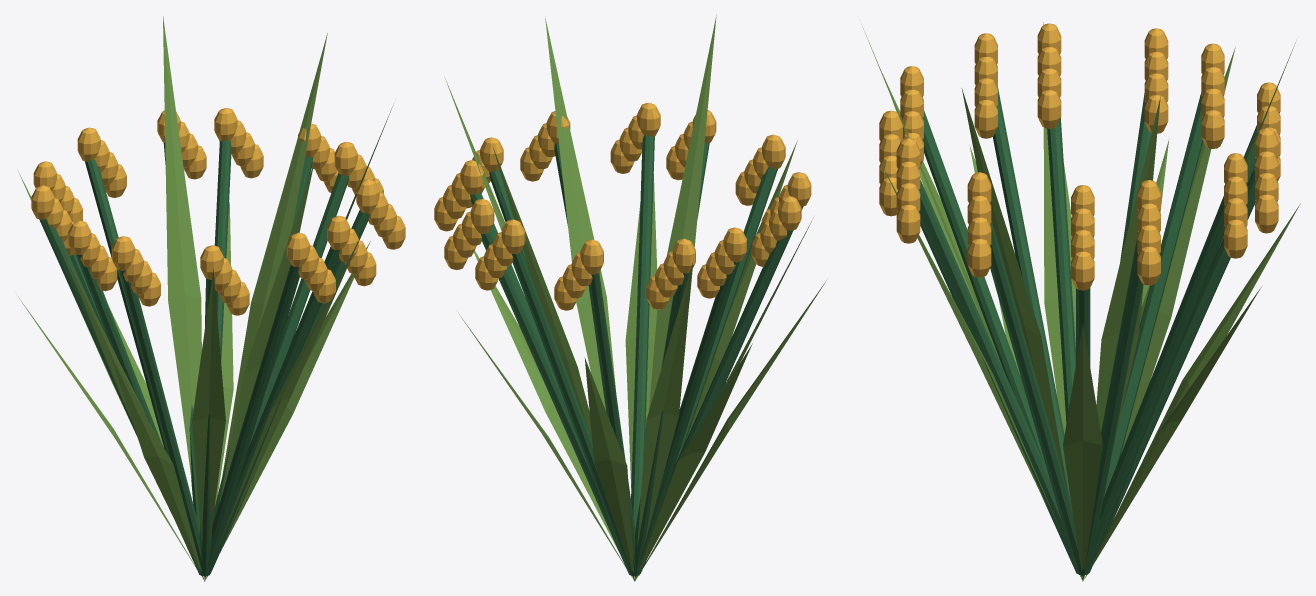
Rendered from 037_ripening_paddy.glb.
3 views of the same model, side by side, from view 1: azimuth 30°, elevation 25°; view 2: azimuth 150°, elevation 25°; view 3: azimuth 270°, elevation 25° (orthographic). The views are drawn at different scales.
Visible parts, largest first — view 1: Ripening paddy; view 2: Ripening paddy; view 3: Ripening paddy.
Part boxes in pixels (x1,y1,x2,y2): Ripening paddy: (18, 16, 405, 581); Ripening paddy: (434, 15, 826, 581); Ripening paddy: (861, 22, 1300, 581).
Bounding box in the file's own units: 1.07 × 1.46 × 1.02.
